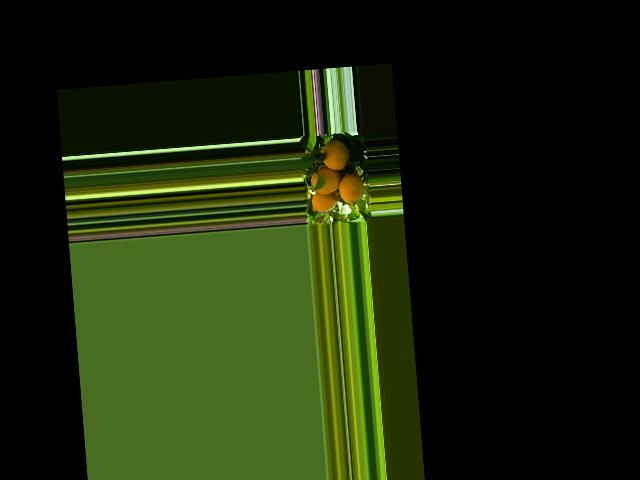lemon: (317, 137, 352, 172)
